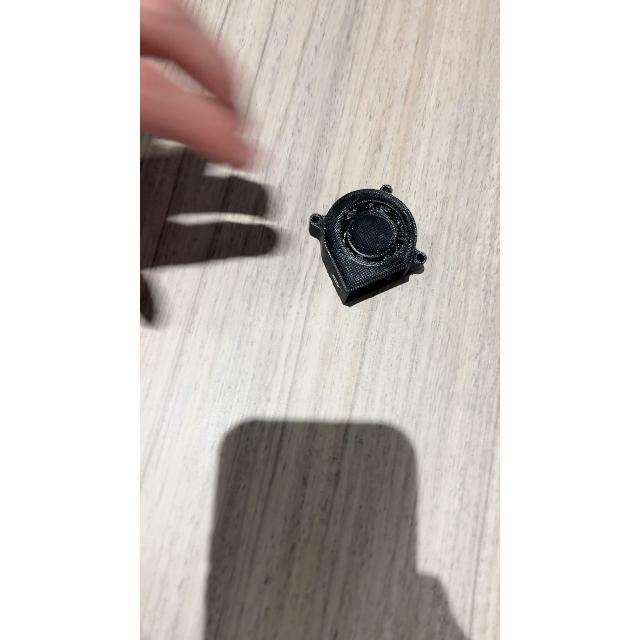Pieza3: (303, 176, 439, 310)
